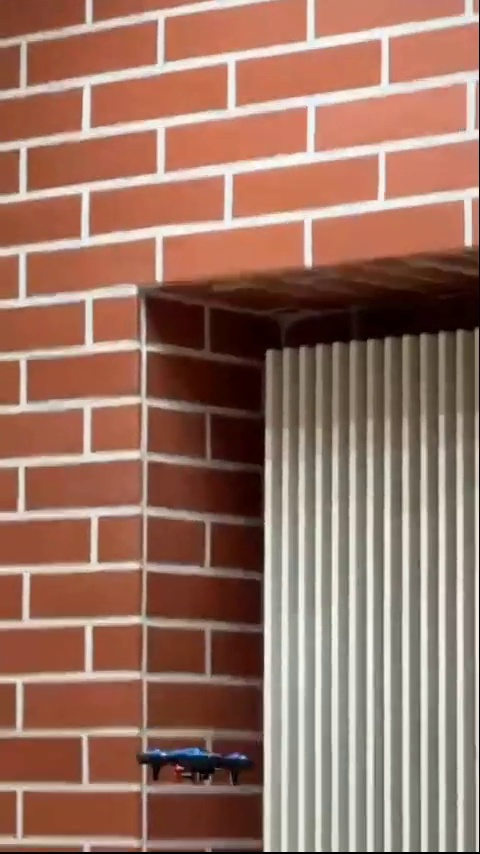drone: (132, 737, 253, 791)
